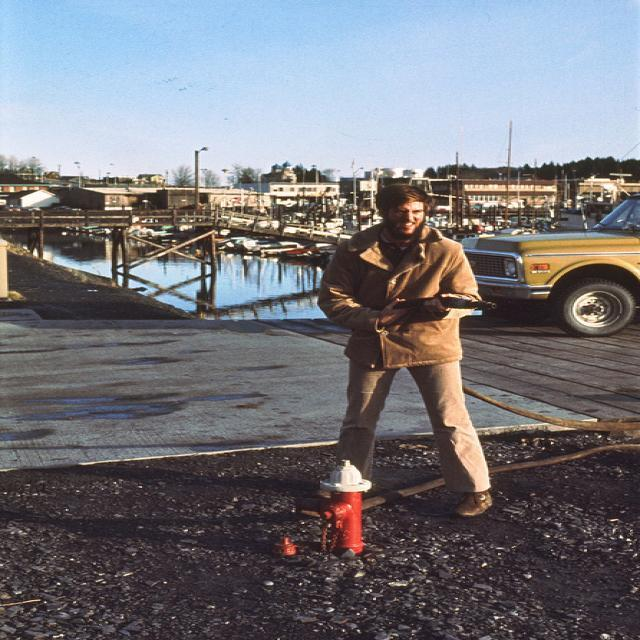fire_hydrant: (318, 457, 376, 556)
